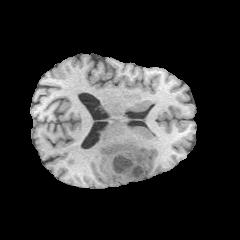glioma: (98, 143, 147, 184)
